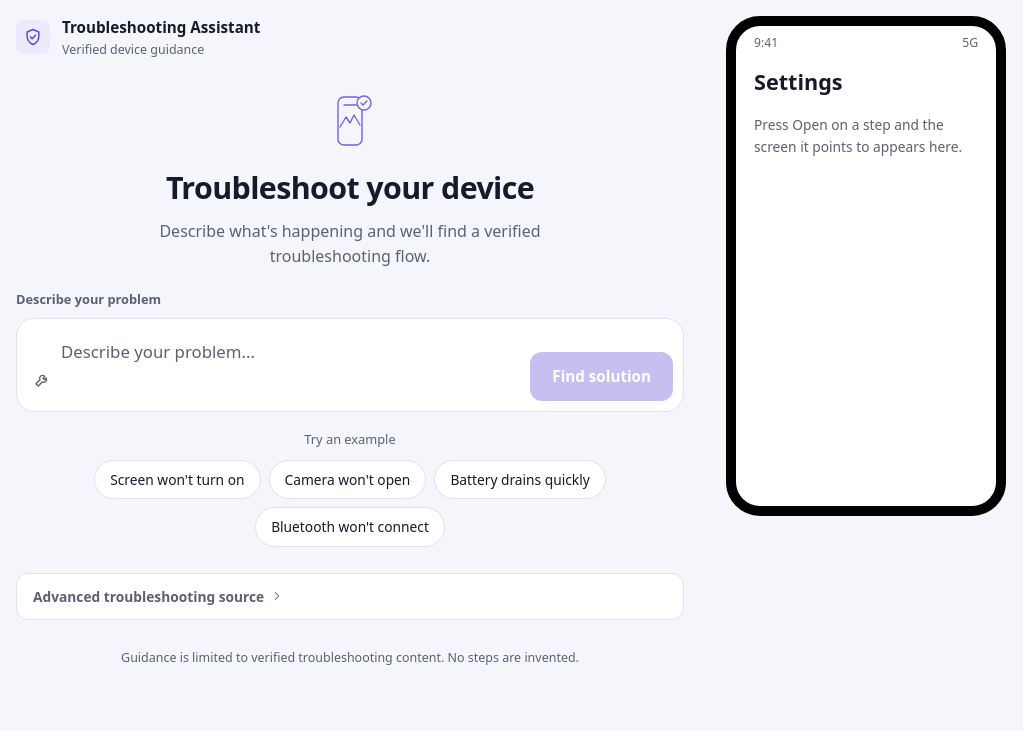
Test case: App › shows a generic error with no implementation detail or stack trace
Type "touch is laggy" into the text box labelled "Describe your problem" at coordinates (291, 365), box 61,329 -> 520,401
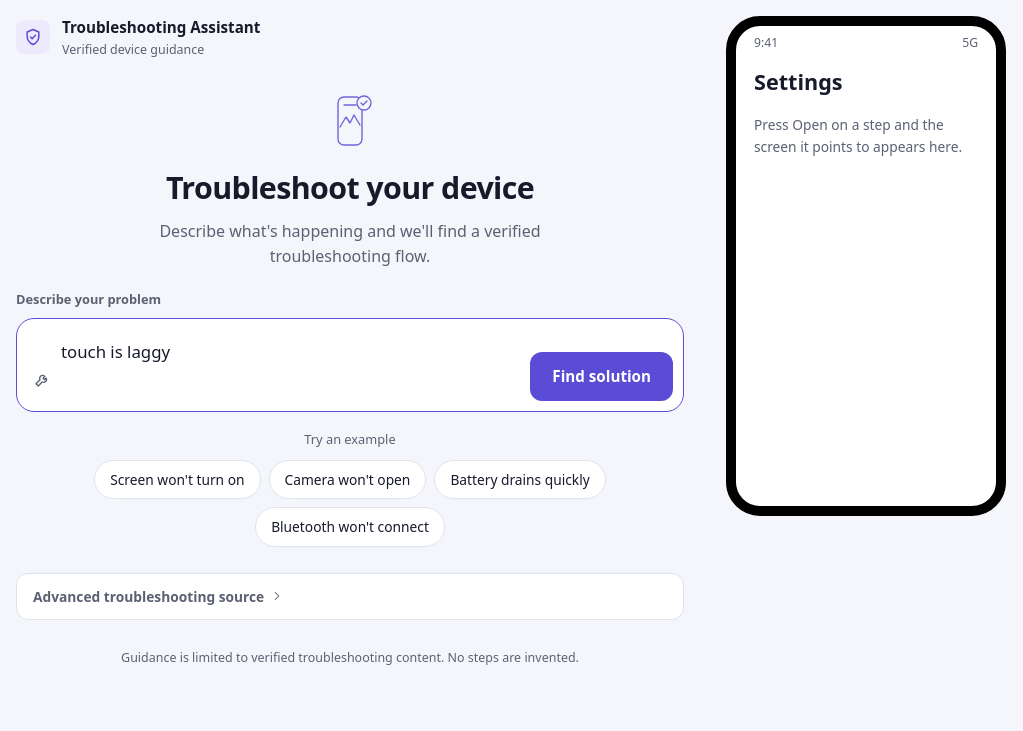
Click the button "Find solution" at coordinates (602, 377), box 530,352 -> 673,401
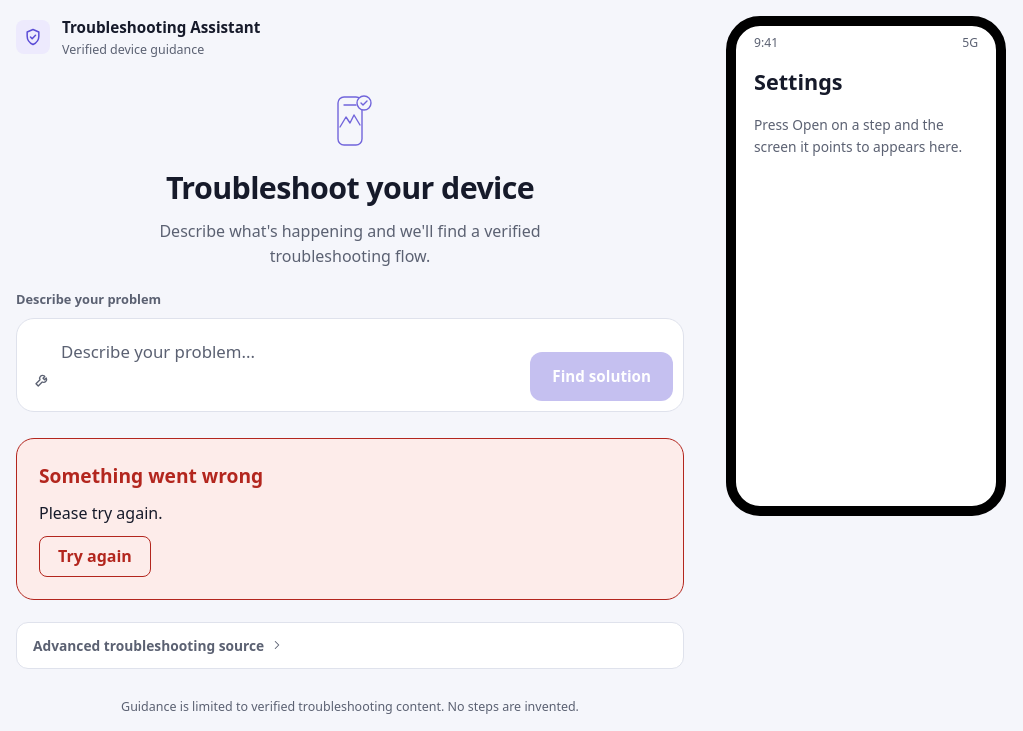
Expected: the message shows "Something went wrong", 39,462 -> 263,489
Expected: the message shows "Please try again", 39,502 -> 162,524
